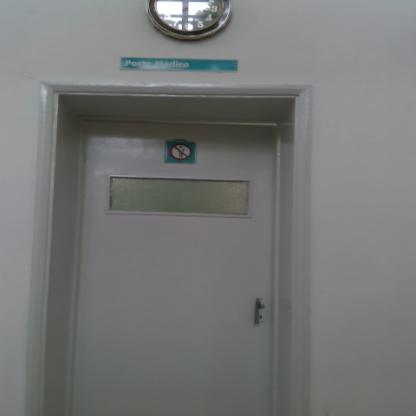closed: (36, 78, 333, 406)
